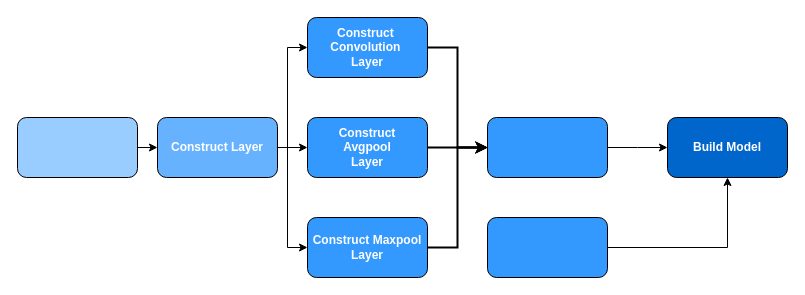
This 805x295 diagram has some shape labels left out. The box of each missing label's shape, as (x1, y1, x2, y2) in pixels:
Construct Data Structure: (16, 116, 138, 178)
Construct Network: (486, 116, 608, 178)
Load weights and Biases: (486, 216, 608, 278)
